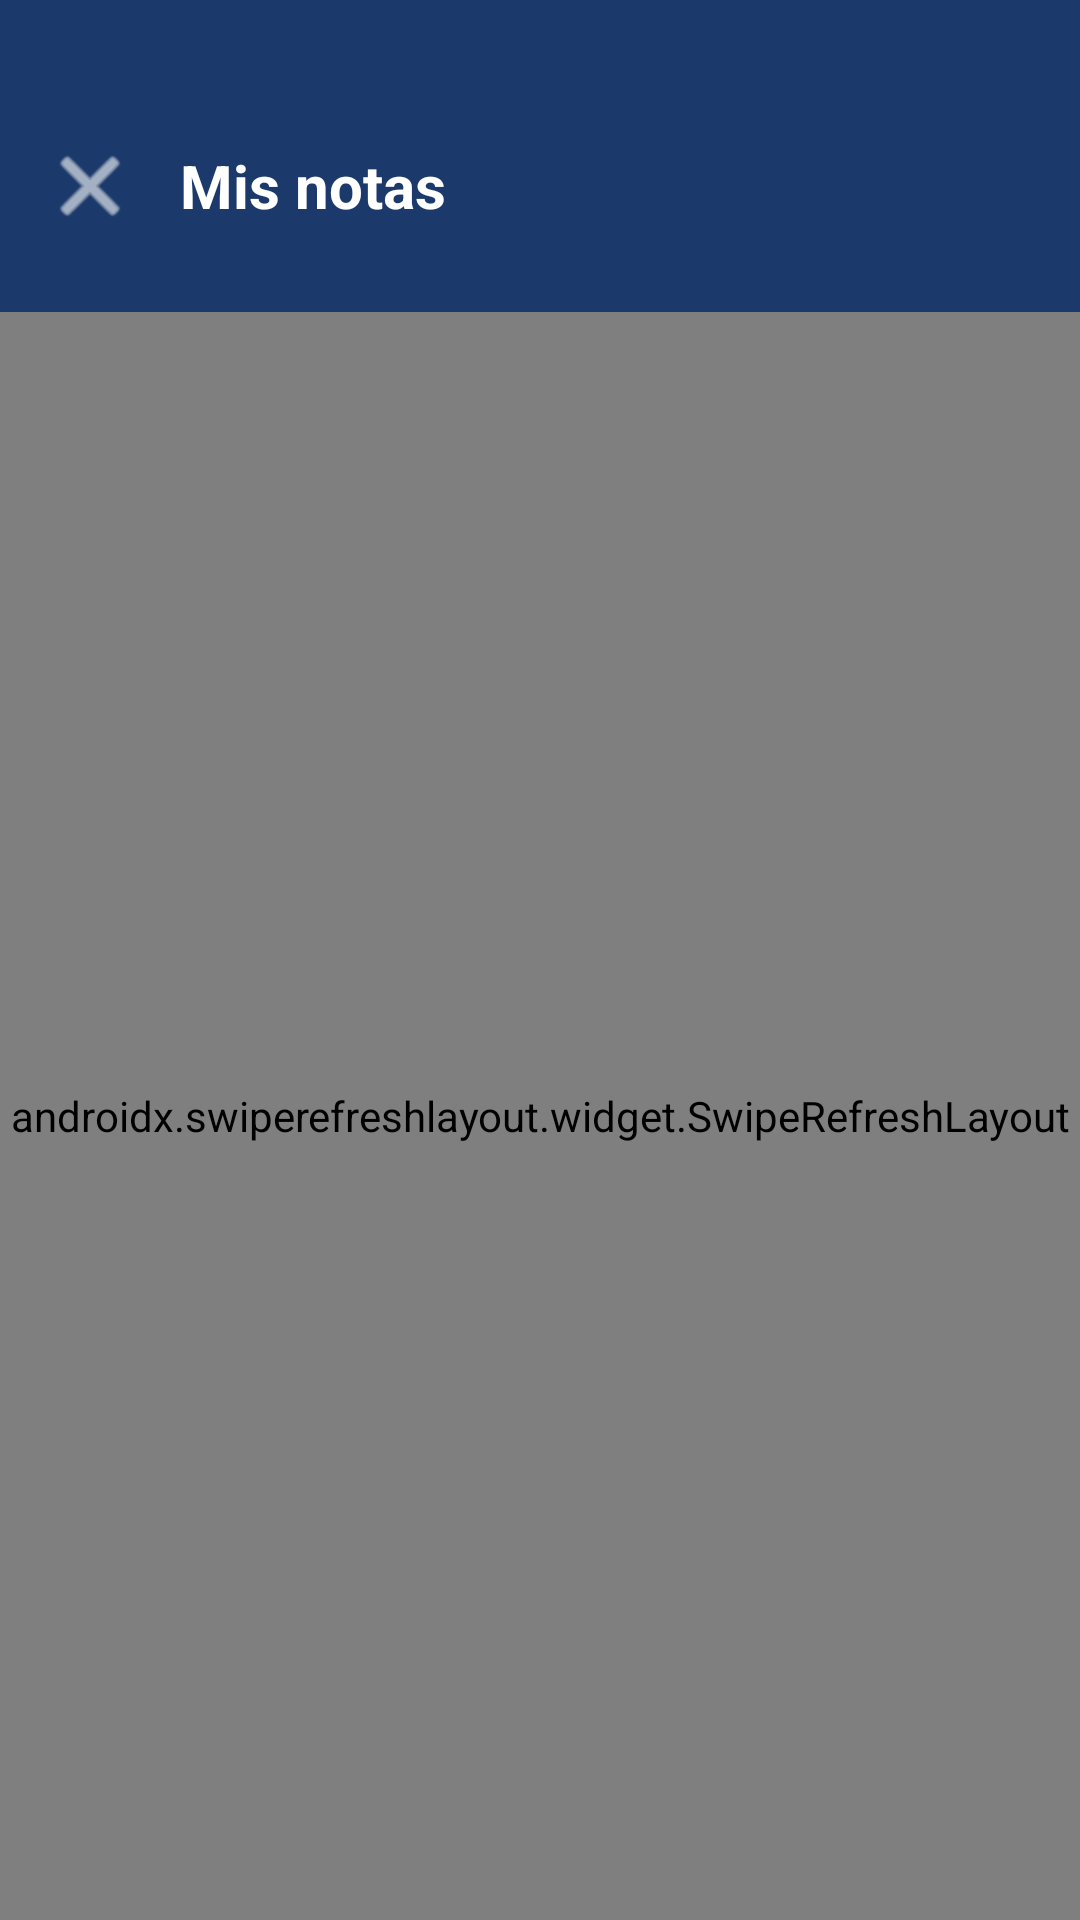

Named icons in this screenshot (1080 x 1920) and their centers, (x,y):
Volver: (90,186)
